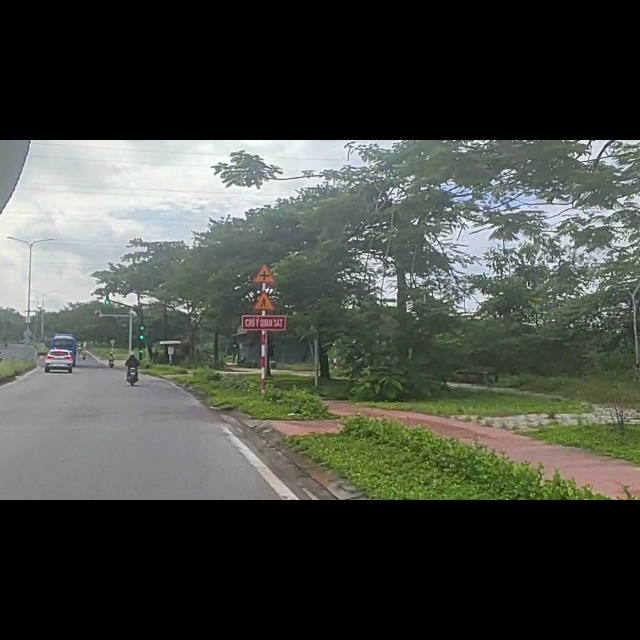bien_nguy_hiem: (251, 267, 280, 305), (253, 219, 277, 257)
